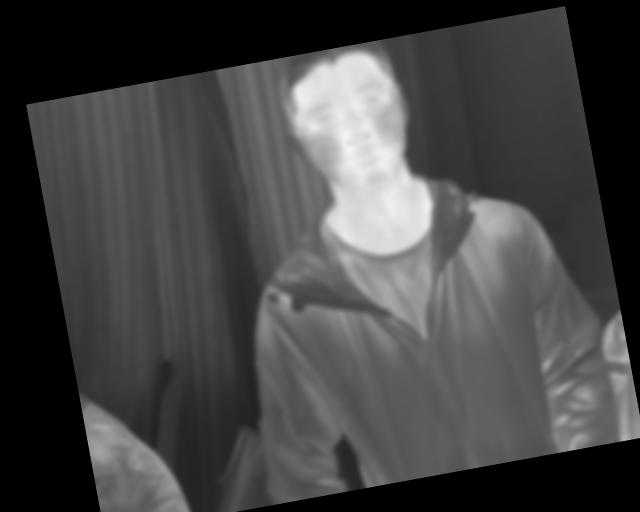face: (274, 37, 421, 201)
